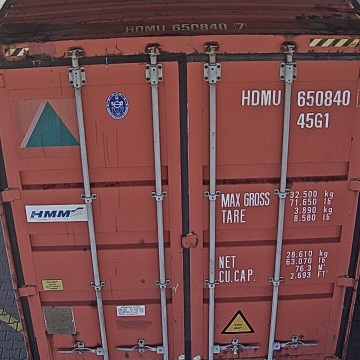serial_id: (242, 89, 360, 106)
